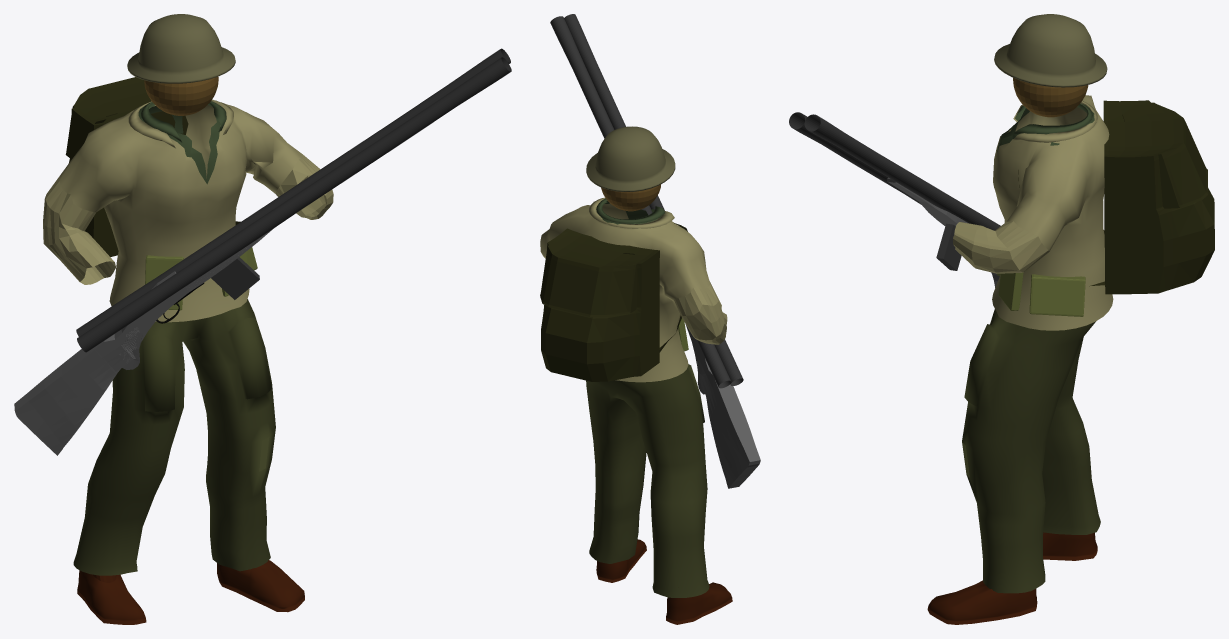
The model's file is Riflemen.dae.
The picture shows the model from 3 angles, left to right: view 1: azimuth 30°, elevation 25°; view 2: azimuth 150°, elevation 25°; view 3: azimuth 270°, elevation 25°; orthographic projection. The views are drawn at different scales.
Parts seen in each view (by area): view 1: pants, jacket, Cylinder_001, Plane, hat, backpack, shoe_left, shoe_right, Sphere, shirt, Cube, Cube_001; view 2: pants, backpack, jacket, Cylinder_001, hat, Plane, shoe_right, Sphere, shoe_left, shirt; view 3: pants, jacket, backpack, hat, Cylinder_001, shoe_left, Cube_003, Sphere, shoe_right, shirt, Cube_002, Plane (+1 smaller).
Part boxes in pixels (x1,y1,x2,y2): pants: [73, 299, 275, 575]; jacket: [43, 99, 333, 322]; Cylinder_001: [76, 48, 511, 352]; Plane: [14, 229, 272, 455]; hat: [127, 14, 235, 83]; backpack: [65, 77, 188, 256]; shoe_left: [217, 560, 304, 612]; shoe_right: [77, 570, 146, 624]; Sphere: [144, 76, 218, 115]; shirt: [138, 101, 226, 184]; Cube: [211, 257, 259, 299]; Cube_001: [145, 255, 183, 310]; pants: [586, 364, 709, 597]; backpack: [540, 228, 659, 381]; jacket: [540, 197, 727, 382]; Cylinder_001: [550, 14, 743, 388]; hat: [586, 126, 675, 191]; Plane: [685, 324, 760, 488]; shoe_right: [666, 582, 732, 624]; Sphere: [601, 184, 660, 211]; shoe_left: [596, 539, 646, 582]; shirt: [596, 198, 664, 224]; pants: [962, 309, 1100, 593]; jacket: [953, 95, 1113, 330]; backpack: [1103, 100, 1214, 294]; hat: [994, 14, 1107, 87]; Cylinder_001: [789, 112, 1000, 230]; shoe_left: [927, 580, 1037, 624]; Cube_003: [1029, 274, 1085, 316]; Sphere: [1013, 78, 1088, 117]; shoe_right: [1043, 532, 1097, 560]; shirt: [996, 103, 1094, 152]; Cube_002: [998, 272, 1023, 310]; Plane: [886, 177, 999, 287].
Bounding box in the file's own units: 1.91 × 1.85 × 2.76.
